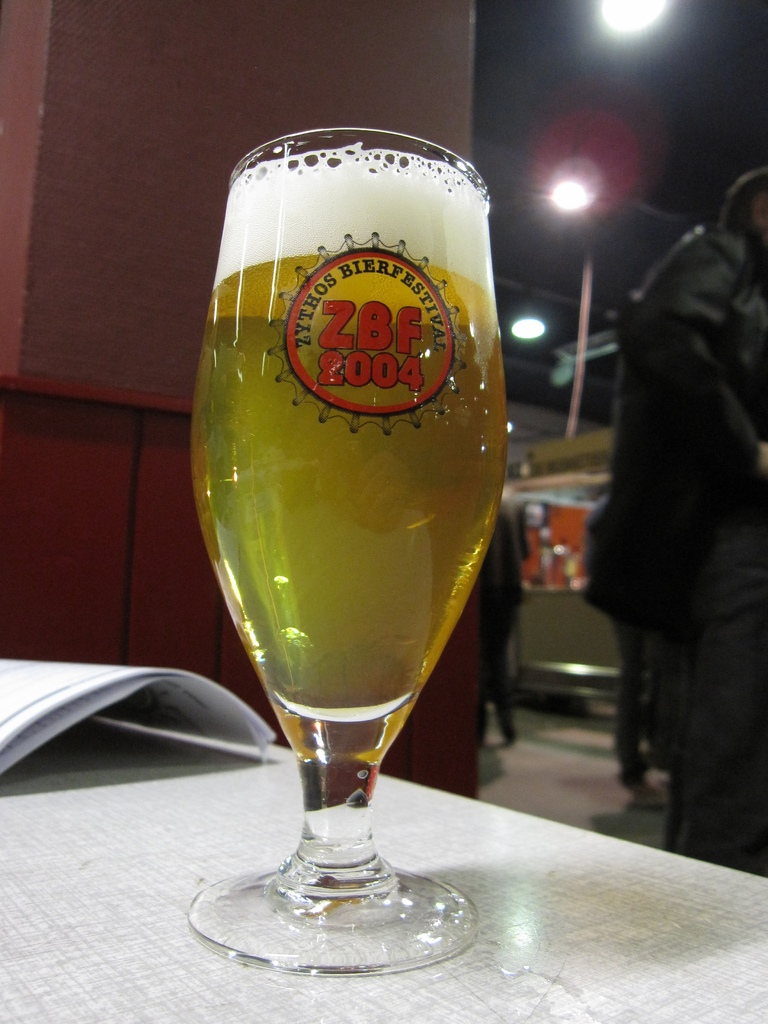Beer: (190, 147, 512, 728)
